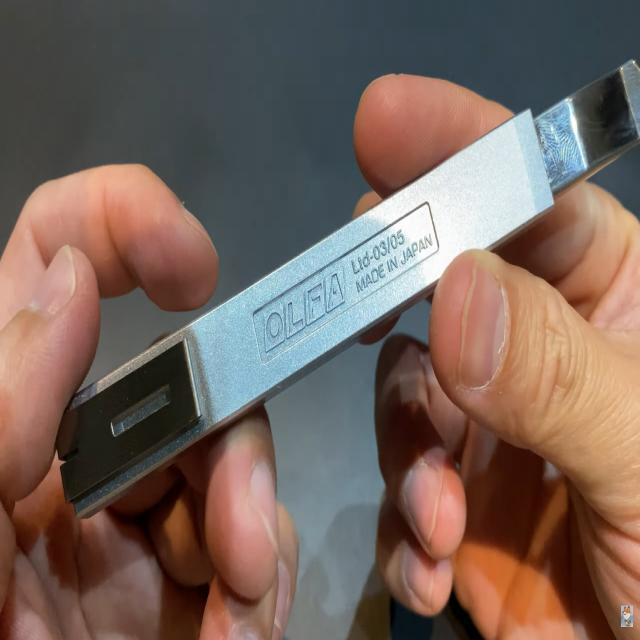cutter: (2, 37, 640, 528)
